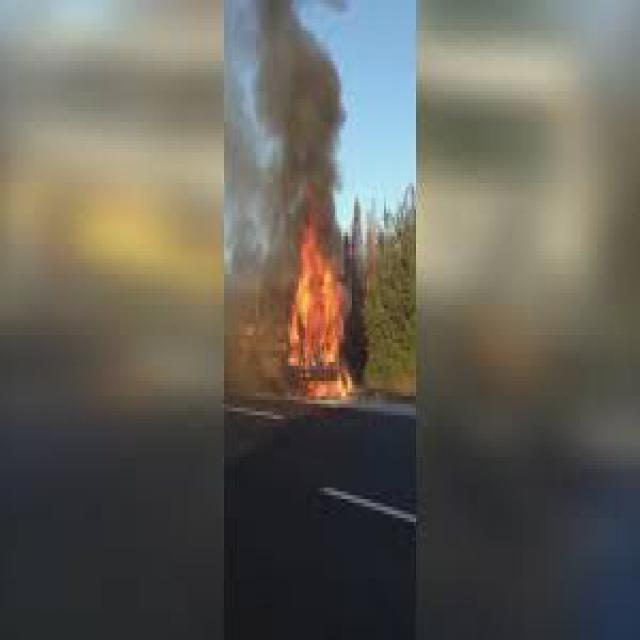fire: (276, 214, 368, 409)
